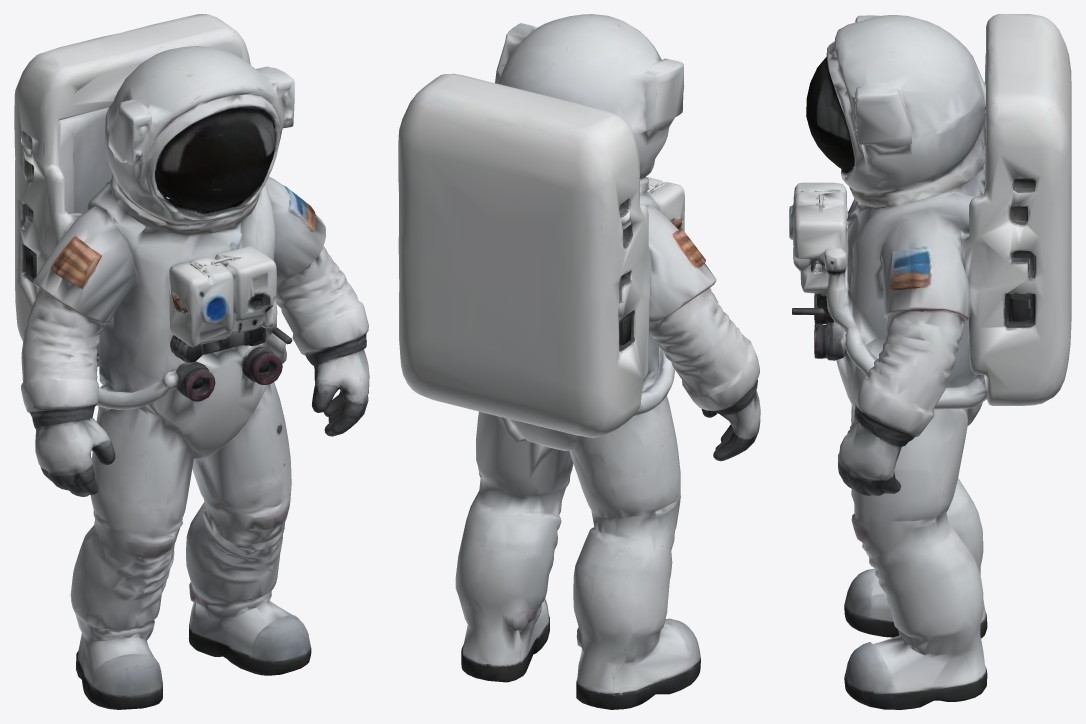
Rendered from astronaut.glb.
3 renders of one model, left to right at view 1: azimuth 30°, elevation 25°; view 2: azimuth 150°, elevation 25°; view 3: azimuth 270°, elevation 25°, orthographic. The views are drawn at different scales.
Visible parts, largest first — view 1: geometry_0; view 2: geometry_0; view 3: geometry_0.
Boxes of the visible parts, <box> form: geometry_0: <box>14,14,369,709</box>; geometry_0: <box>398,14,760,709</box>; geometry_0: <box>789,14,1071,709</box>.
Size of the model in its own units: 0.5581 by 1 by 0.4016.
1 material, 1 textured.
